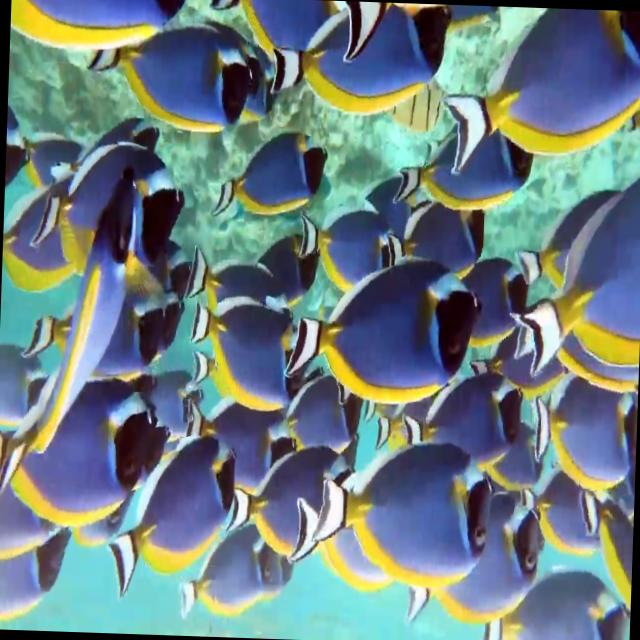fish: (0, 174, 143, 497), (313, 420, 495, 614), (446, 4, 640, 184), (283, 258, 473, 407), (513, 163, 640, 374), (0, 370, 157, 529), (29, 142, 185, 278), (82, 17, 258, 133), (270, 0, 450, 113), (113, 428, 238, 588), (228, 436, 354, 564), (392, 110, 536, 212), (530, 374, 638, 496), (396, 372, 524, 472), (214, 120, 326, 221), (192, 307, 298, 413), (296, 214, 412, 292), (174, 528, 270, 620), (183, 249, 285, 314)
